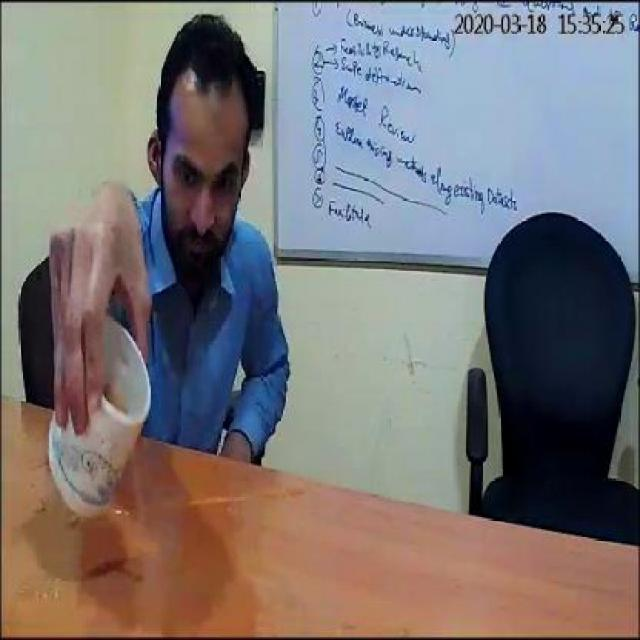spill: (120, 443, 302, 506)
